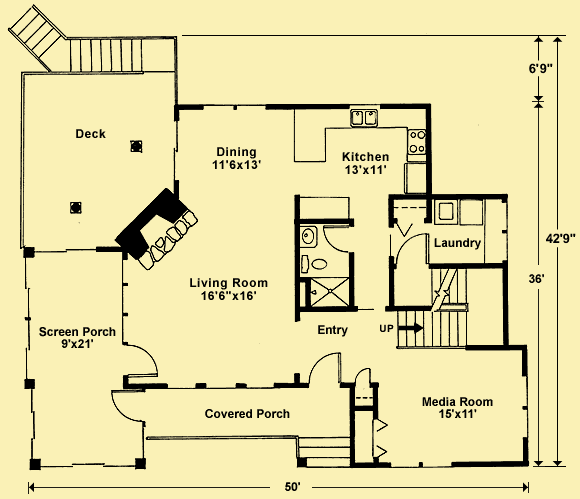door: (116, 339, 162, 379), (108, 387, 153, 424), (306, 346, 343, 390), (394, 232, 436, 270), (352, 365, 375, 387)
large sink: (297, 252, 329, 276)
small sink: (295, 222, 320, 251)
stairs: (4, 2, 147, 78), (375, 266, 472, 354), (292, 431, 355, 469)
twin sink: (346, 104, 383, 129)
windows: (118, 255, 132, 337), (518, 373, 534, 442), (199, 100, 272, 114), (497, 201, 512, 261)
